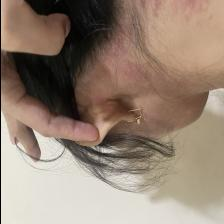Dermatitis kontak iritan: (82, 84, 128, 118)
